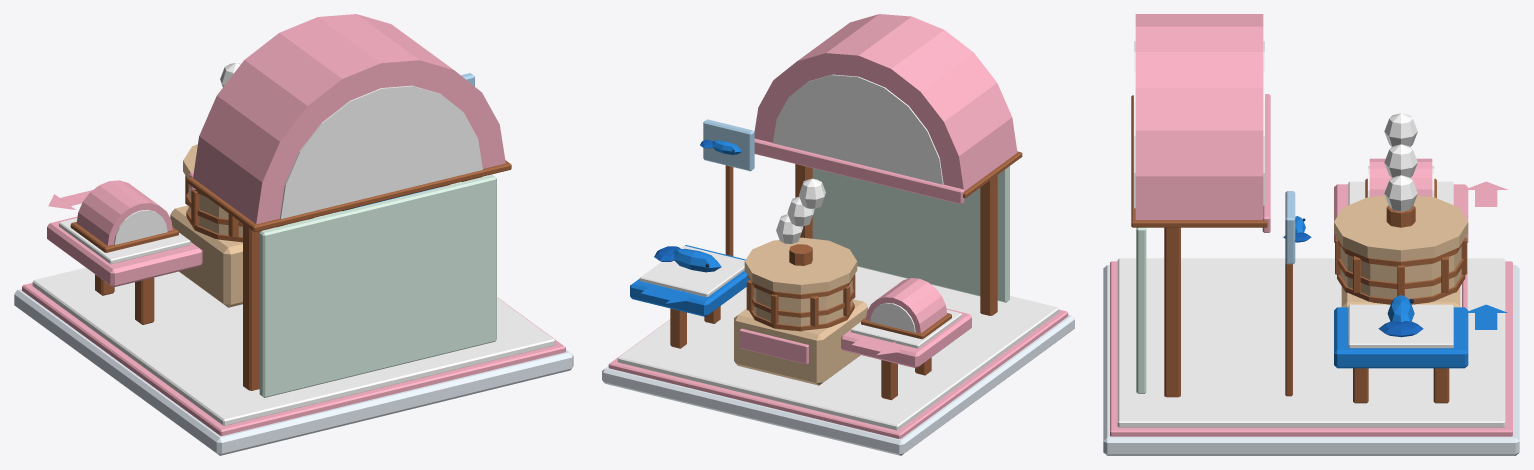
The model's file is Building_Kamaboko_2x2_v002.fbx.
The picture shows the model from 3 angles, left to right: view 1: azimuth 30°, elevation 25°; view 2: azimuth 150°, elevation 25°; view 3: azimuth 270°, elevation 25°; orthographic projection. The views are drawn at different scales.
Parts seen in each view (by area): view 1: RoofBackWall, RoofLoafPink, WorkshopFloor, RoofLoafWhiteBack, Foundation, FoundationPinkRim, OutputTable, SteamerStove, ProductPink, RoofPillar.001, RoofLoafBoard, OutputTray (+4 smaller); view 2: WorkshopFloor, RoofLoafPink, RoofBackWall, RoofLoafWhiteFront, Foundation, SteamerStove, LidDisk, FoundationPinkRim, PinkRoofApron, InputTray, RoofPillar.001, OutputTable (+21 smaller); view 3: WorkshopFloor, RoofLoafPink, Foundation, FoundationPinkRim, LidDisk, InputTable, InputTray, RoofPillar, SteamerBasket, RoofBackWall, RoofLoafBoard, ProductPink (+19 smaller).
Part boxes in pixels (bbox=[...]): RoofBackWall: bbox=[259, 175, 496, 397]; RoofLoafPink: bbox=[193, 14, 505, 224]; WorkshopFloor: bbox=[32, 211, 555, 425]; RoofLoafWhiteBack: bbox=[280, 85, 482, 218]; Foundation: bbox=[14, 289, 573, 455]; FoundationPinkRim: bbox=[22, 283, 565, 435]; OutputTable: bbox=[47, 216, 202, 287]; SteamerStove: bbox=[170, 205, 314, 307]; ProductPink: bbox=[76, 180, 172, 245]; RoofPillar.001: bbox=[243, 224, 263, 390]; RoofLoafBoard: bbox=[187, 160, 511, 232]; OutputTray: bbox=[59, 218, 190, 263]; WorkshopFloor: bbox=[617, 266, 1059, 430]; RoofLoafPink: bbox=[754, 14, 1017, 191]; RoofBackWall: bbox=[812, 166, 1009, 302]; RoofLoafWhiteFront: bbox=[773, 74, 943, 184]; Foundation: bbox=[602, 315, 1074, 455]; SteamerStove: bbox=[734, 299, 867, 385]; LidDisk: bbox=[744, 237, 857, 294]; FoundationPinkRim: bbox=[608, 309, 1068, 438]; PinkRoofApron: bbox=[754, 138, 964, 204]; InputTray: bbox=[640, 245, 744, 297]; RoofPillar.001: bbox=[980, 175, 997, 315]; OutputTable: bbox=[841, 308, 971, 368]; WorkshopFloor: bbox=[1117, 258, 1505, 427]; RoofLoafPink: bbox=[1135, 14, 1263, 219]; Foundation: bbox=[1103, 265, 1519, 455]; FoundationPinkRim: bbox=[1110, 261, 1512, 436]; LidDisk: bbox=[1334, 195, 1468, 261]; InputTable: bbox=[1334, 307, 1468, 368]; InputTray: bbox=[1348, 304, 1453, 348]; RoofPillar: bbox=[1164, 227, 1180, 397]; SteamerBasket: bbox=[1340, 246, 1461, 304]; RoofBackWall: bbox=[1136, 227, 1146, 393]; RoofLoafBoard: bbox=[1131, 95, 1267, 227]; ProductPink: bbox=[1369, 158, 1432, 196].
Size of the model in its own units: 186 by 169 by 186.
